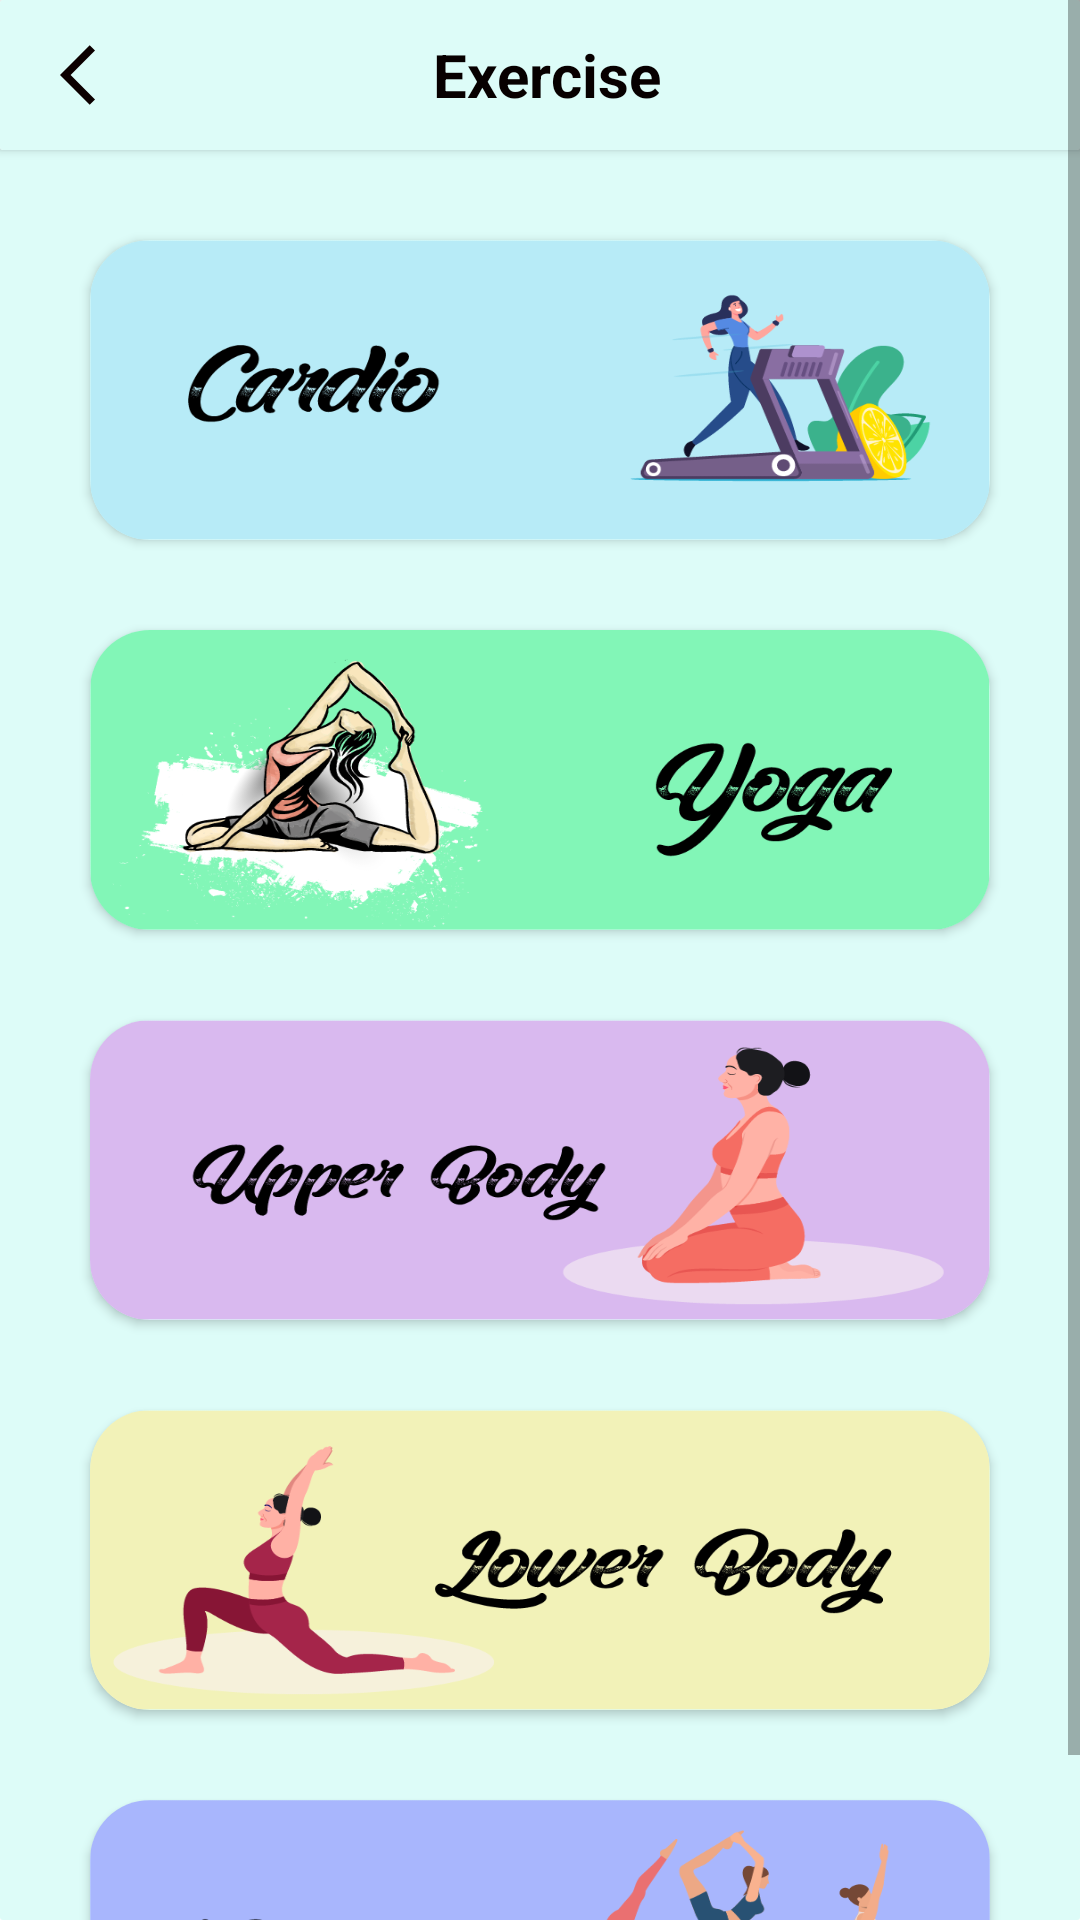

Point at icon controls on the screen. Image size 1080*1920, points as (x=x, y=y).
back: (x=77, y=75)
